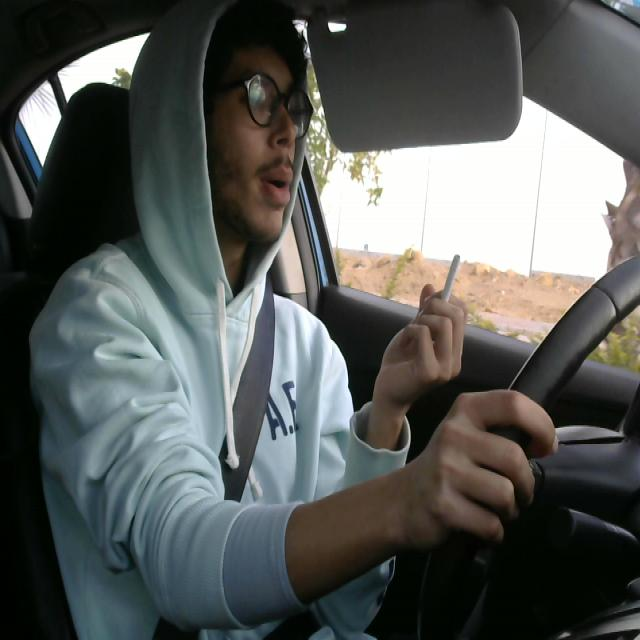smoking: (435, 250, 462, 332)
